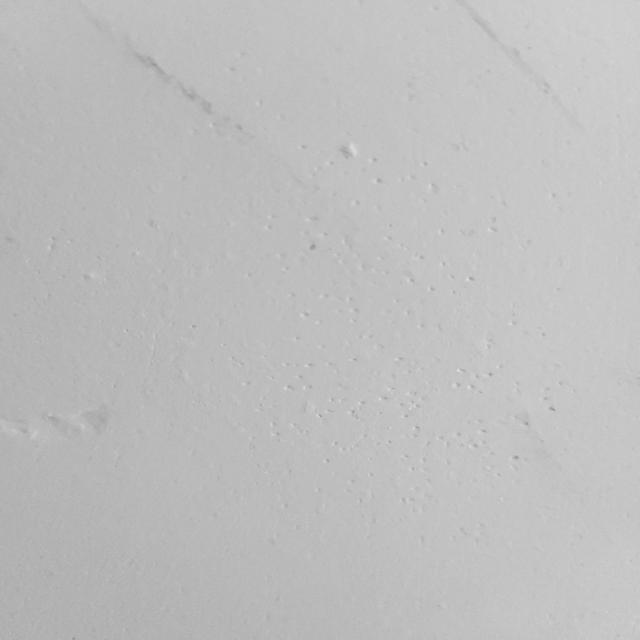rough and patchy surface: (224, 139, 573, 570), (12, 164, 178, 491)
